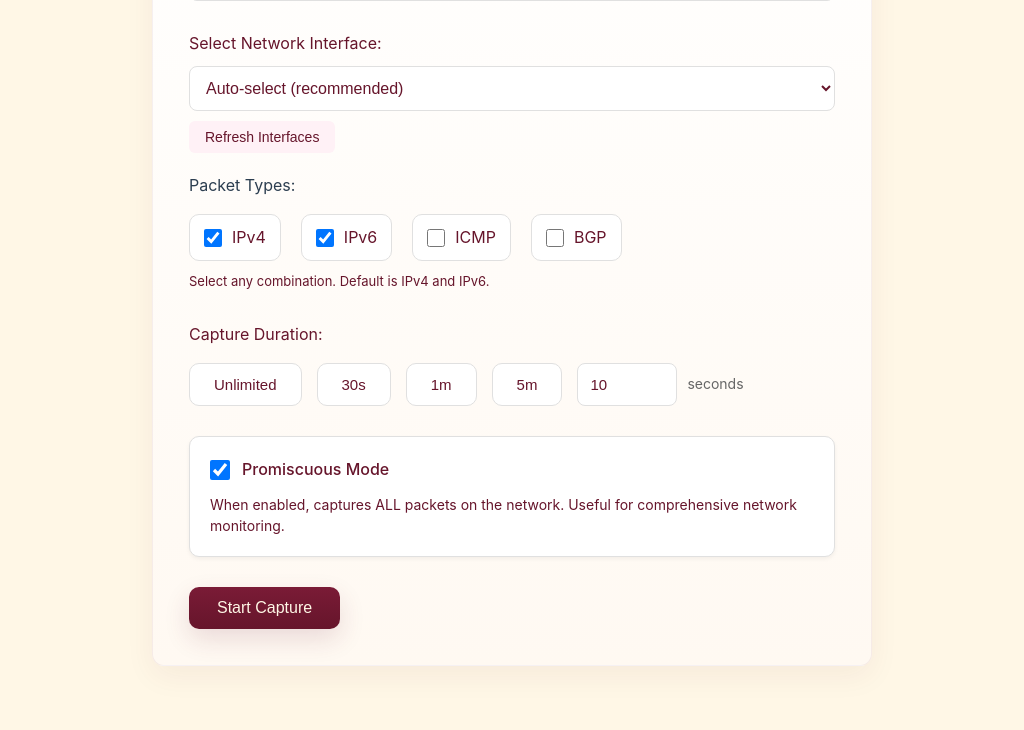
Test case: Home Component › displays error message on capture failure
(page scrolled)
Click the button "Start Capture": {"x": 265, "y": 608} [189,587,340,629]
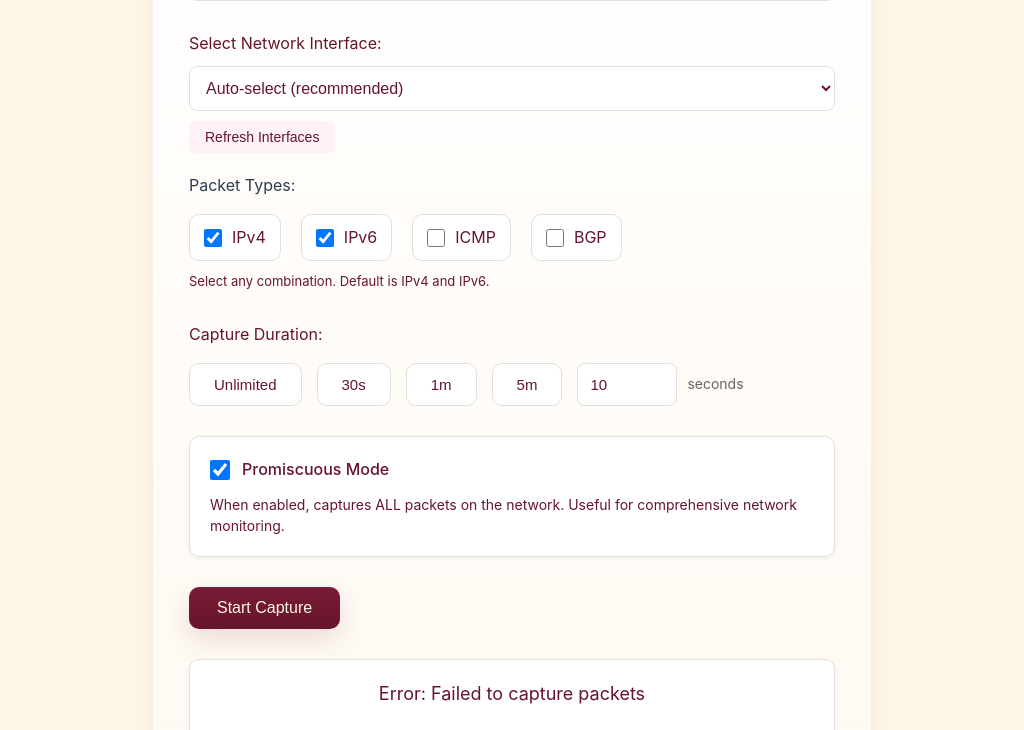
Expected: the text "Error: Failed to capture packets" is shown, [379,683,645,704]
